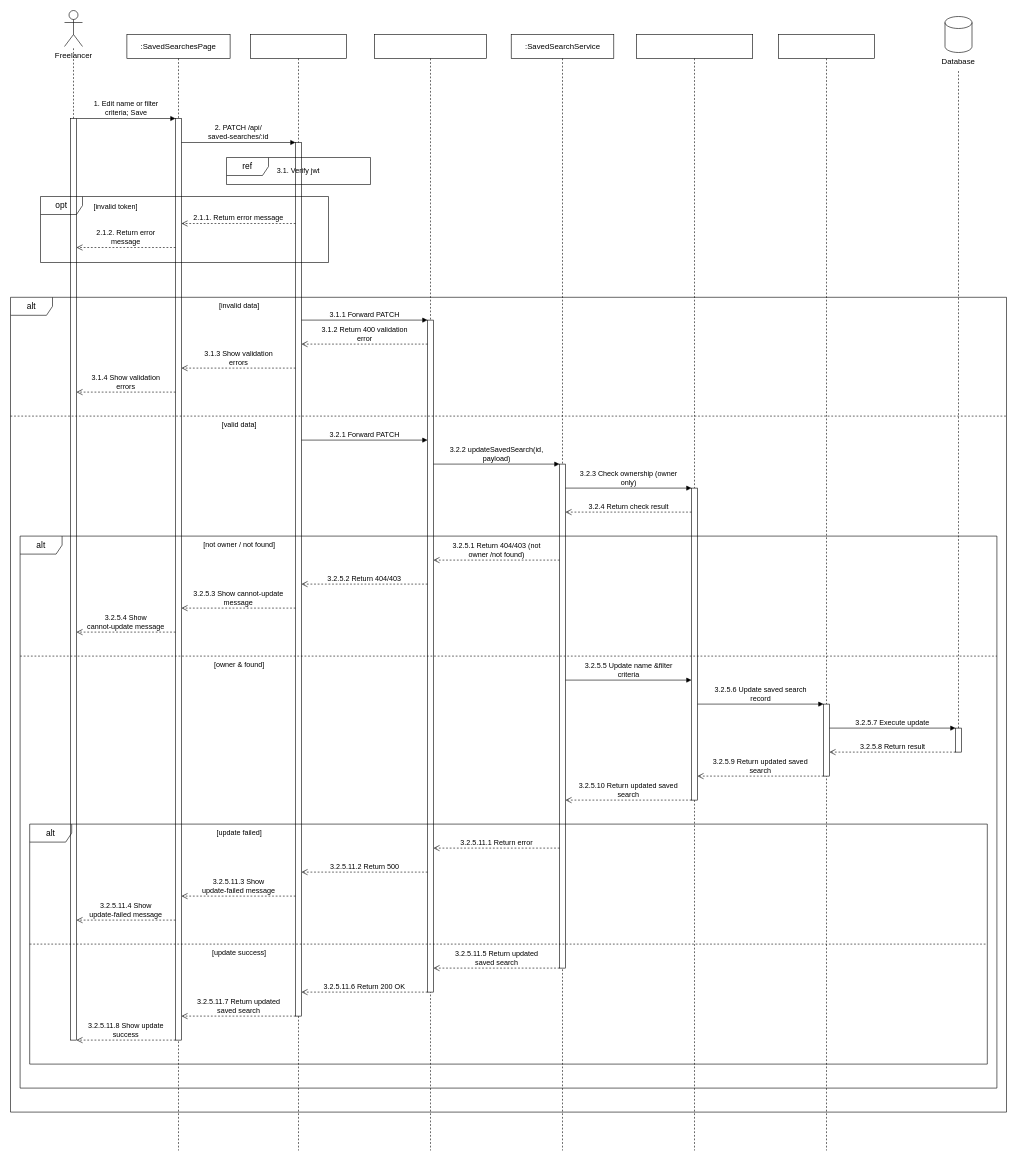
This 1018x1161 diagram has some shape labels left out. Each missing label, with the box of its shape:
:PrismaService: (778, 34, 874, 1150)
:SavedSearchController: (374, 34, 487, 1150)
:SavedSearchRepository: (636, 34, 753, 1150)
:SavedSearchRoute: (250, 34, 346, 1150)
